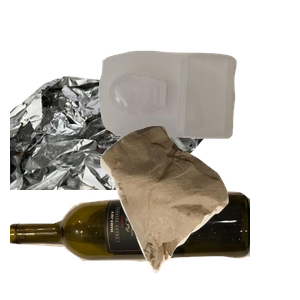glass: (10, 189, 250, 300)
metal: (10, 73, 212, 253)
plastic: (96, 48, 300, 179)
trash: (98, 123, 300, 300)
